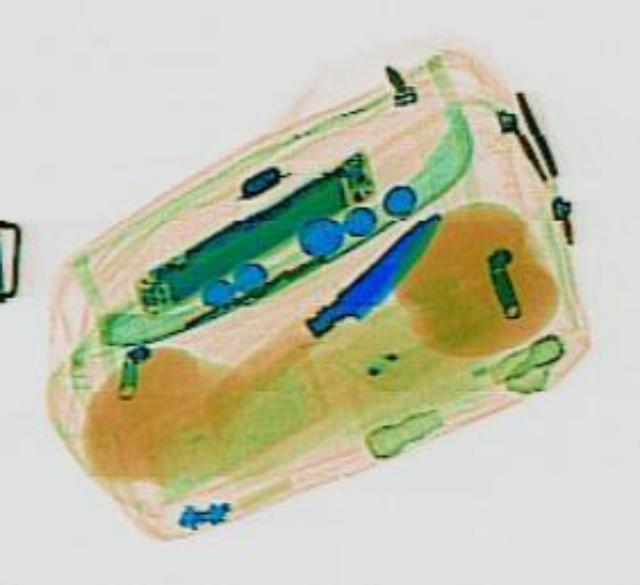Knife: (296, 202, 454, 345)
